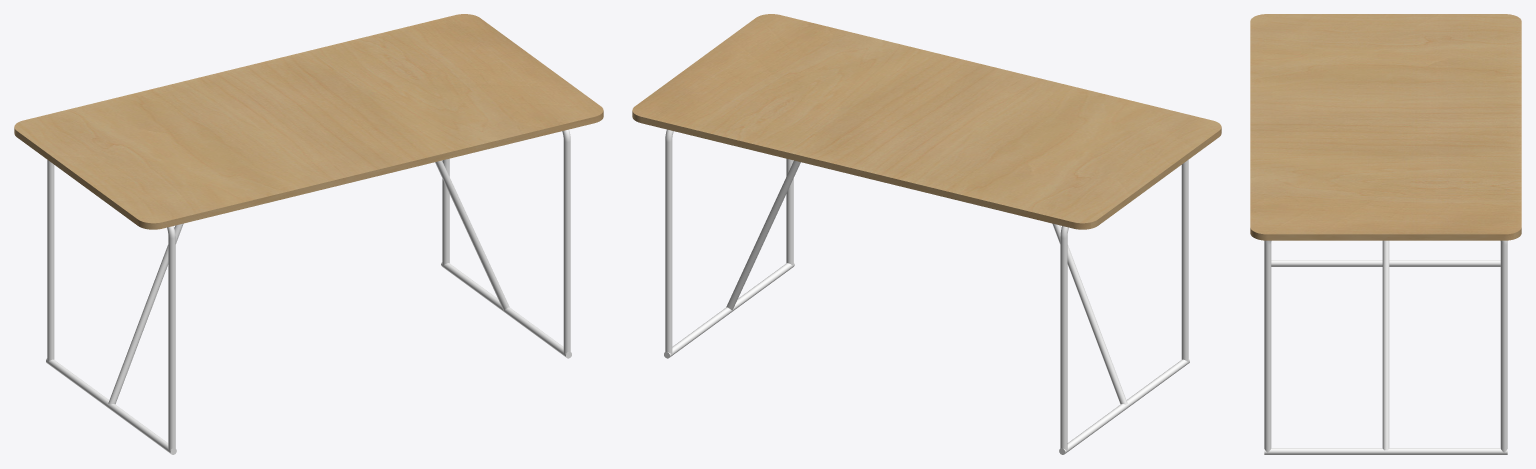
The model's file is IKE160081.obj.
3 renders of one model, left to right at view 1: azimuth 30°, elevation 25°; view 2: azimuth 150°, elevation 25°; view 3: azimuth 270°, elevation 25°, orthographic. The views are drawn at different scales.
Visible parts, largest first — view 1: Revit_008539_70, Revit_037041_71; view 2: Revit_008539_70, Revit_037041_71; view 3: Revit_008539_70, Revit_037041_71.
Part boxes in pixels (left/top/right/bottom): Revit_008539_70: left=14, top=14, right=603, bottom=229; Revit_037041_71: left=46, top=129, right=571, bottom=454; Revit_008539_70: left=632, top=14, right=1221, bottom=229; Revit_037041_71: left=664, top=129, right=1189, bottom=454; Revit_008539_70: left=1250, top=14, right=1521, bottom=240; Revit_037041_71: left=1264, top=240, right=1507, bottom=454.
Size of the model in its own units: 1500 by 750 by 780.
2 materials, 1 textured.
